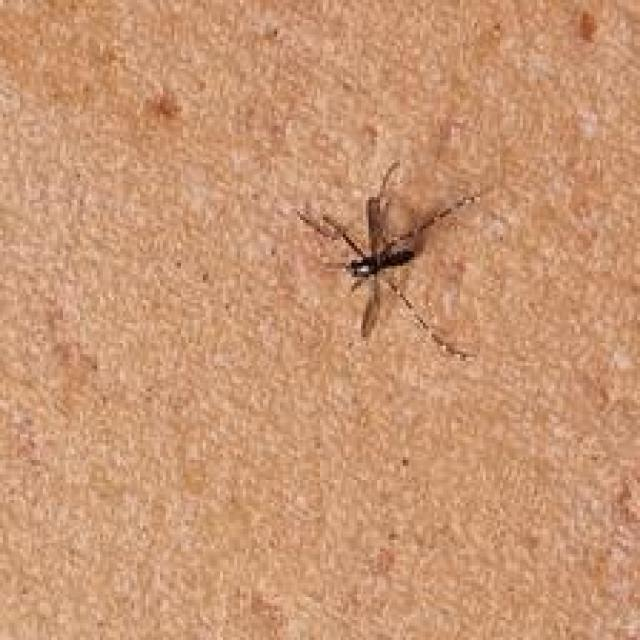Aedes albopictus: (294, 158, 486, 362)
